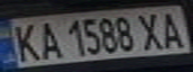1: (63, 16, 84, 56)
5: (78, 15, 103, 55)
8: (112, 12, 139, 53), (96, 15, 121, 54)
A: (154, 8, 190, 50), (33, 19, 63, 61)
K: (6, 20, 45, 63)
Y: (133, 10, 169, 52)
